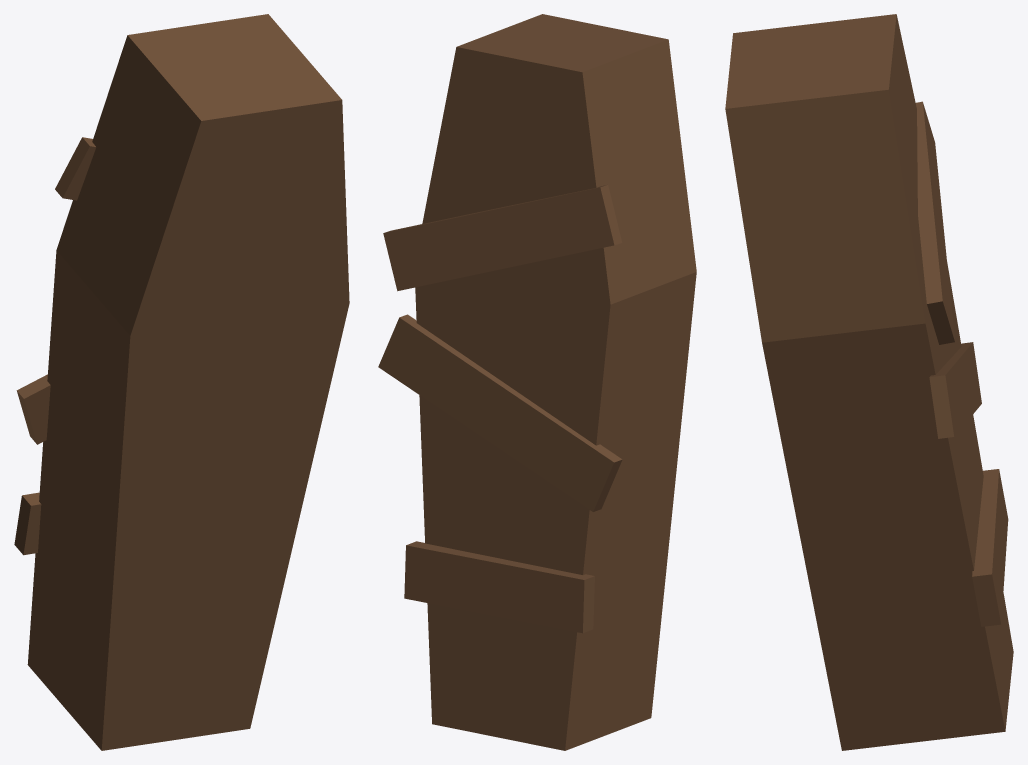
File: CASKET.fbx
The picture shows the model from 3 angles, left to right: view 1: azimuth 30°, elevation 25°; view 2: azimuth 150°, elevation 25°; view 3: azimuth 270°, elevation 25°; orthographic projection. The views are drawn at different scales.
Parts seen in each view (by area): view 1: Casket; view 2: Casket; view 3: Casket.
Boxes of the visible parts, box(x1,y1,x2,y2) form: Casket: box(14, 14, 349, 750); Casket: box(378, 14, 696, 750); Casket: box(725, 14, 1013, 750).
Size of the model in its own units: 0.9762 by 2.5 by 0.9457.
